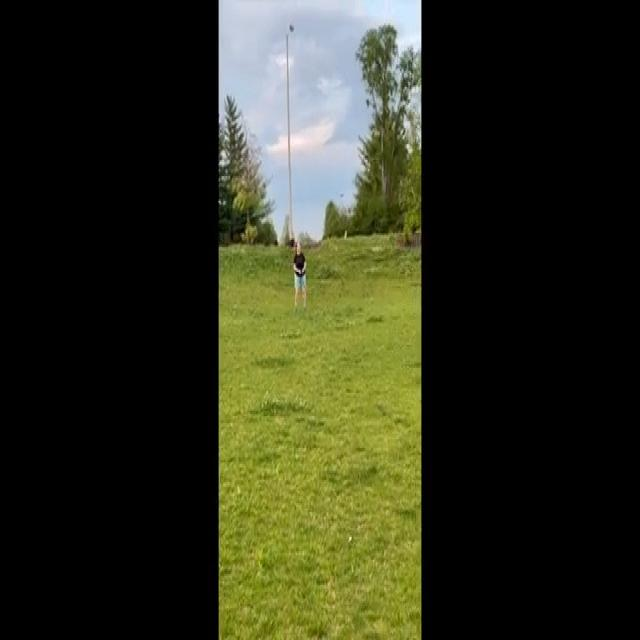drone: (332, 188, 347, 202)
